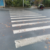zebra: (10, 10, 50, 47)
